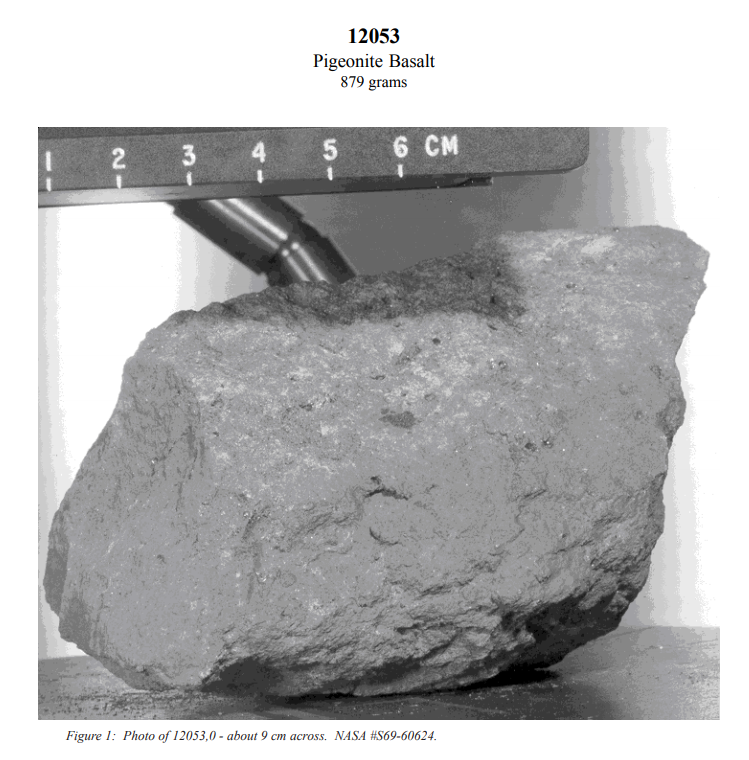Basalt: (37, 213, 716, 716)
